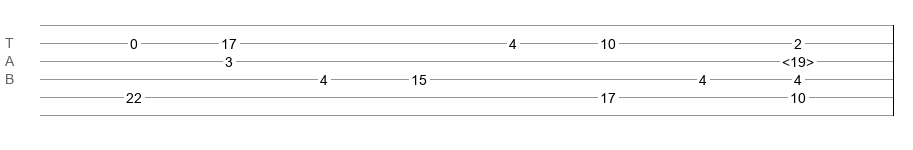0: (130, 36, 138, 46)
10: (600, 36, 616, 46), (790, 90, 806, 100)
15: (411, 72, 427, 82)
17: (221, 36, 237, 46), (600, 90, 616, 100)
2: (794, 36, 802, 46)
22: (126, 90, 142, 100)
3: (225, 54, 233, 64)
4: (320, 72, 328, 82), (509, 36, 517, 46), (699, 72, 707, 82), (794, 72, 802, 82)
harmonic: (782, 54, 814, 64)
